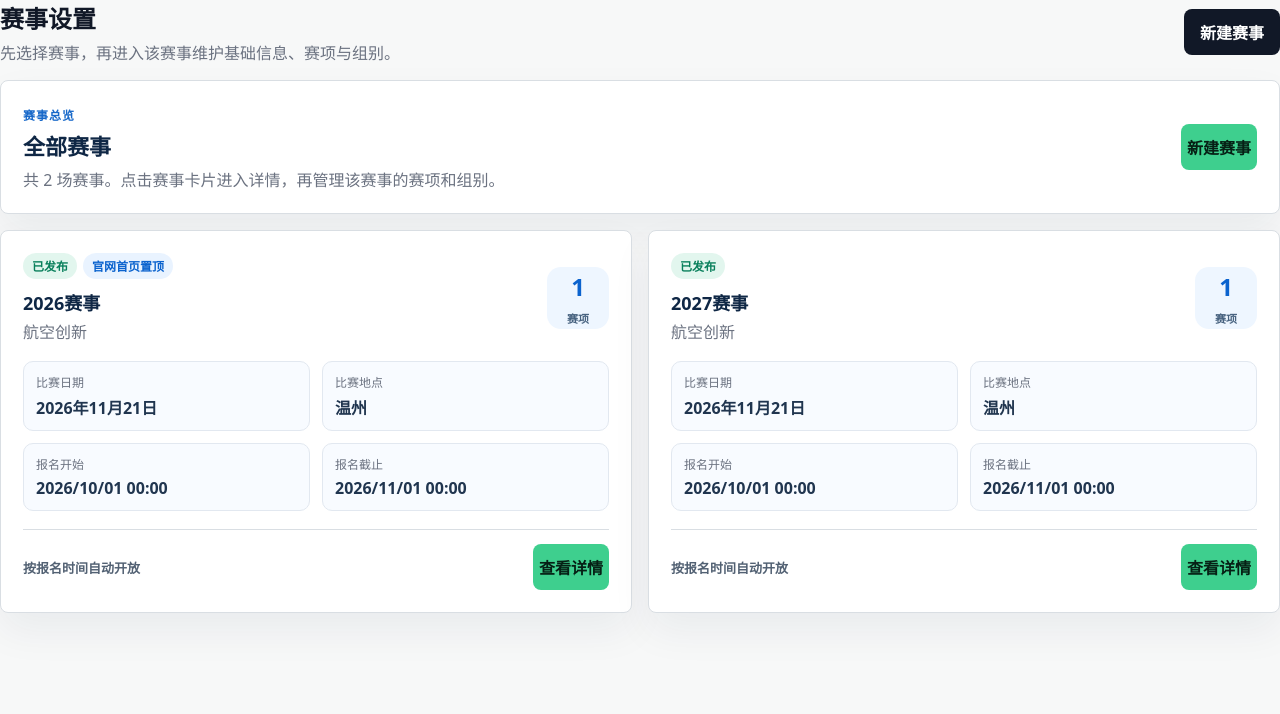
Test: EventManagementPage › opens a selected event before managing its projects
Click the 2nd button "查看详情" at (1219, 567), box top-left (1181, 544), bottom-right (1257, 590)
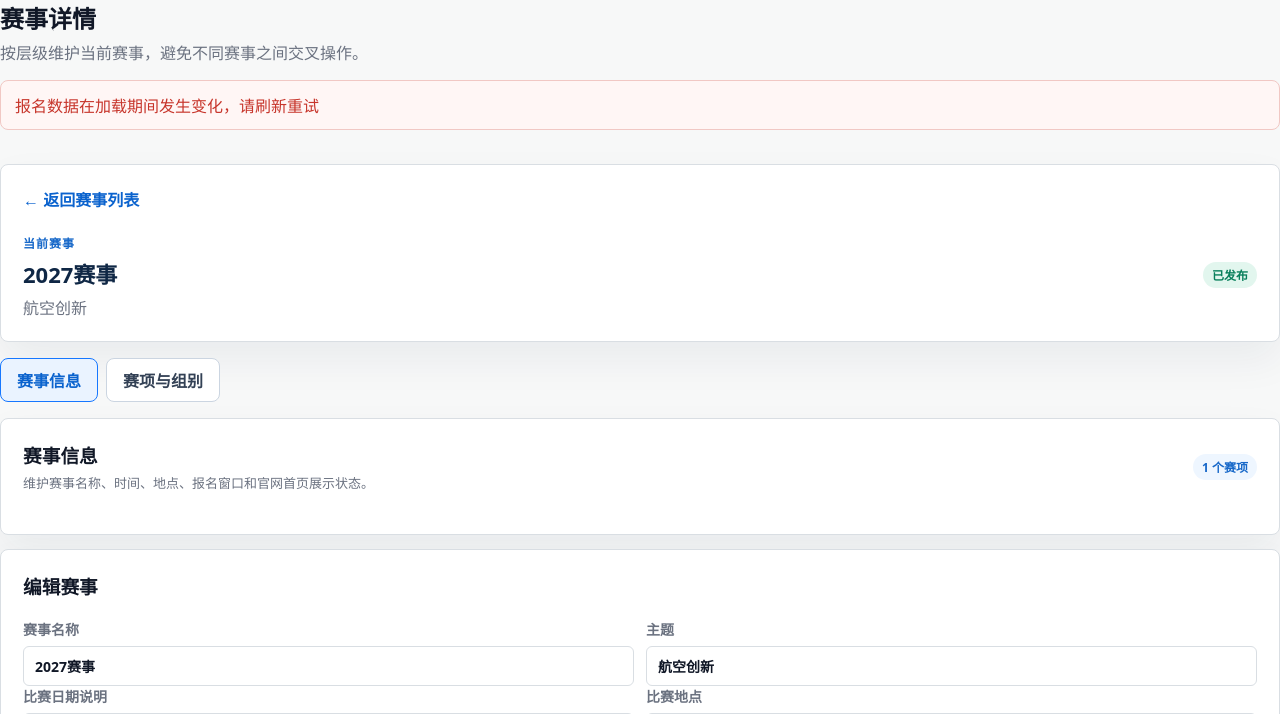
Expected: the element with class "event-detail-heading" shows "2027赛事", top-left (23, 259), bottom-right (117, 289)
Click the tab "赛项与组别" at (163, 380), box top-left (106, 358), bottom-right (220, 402)
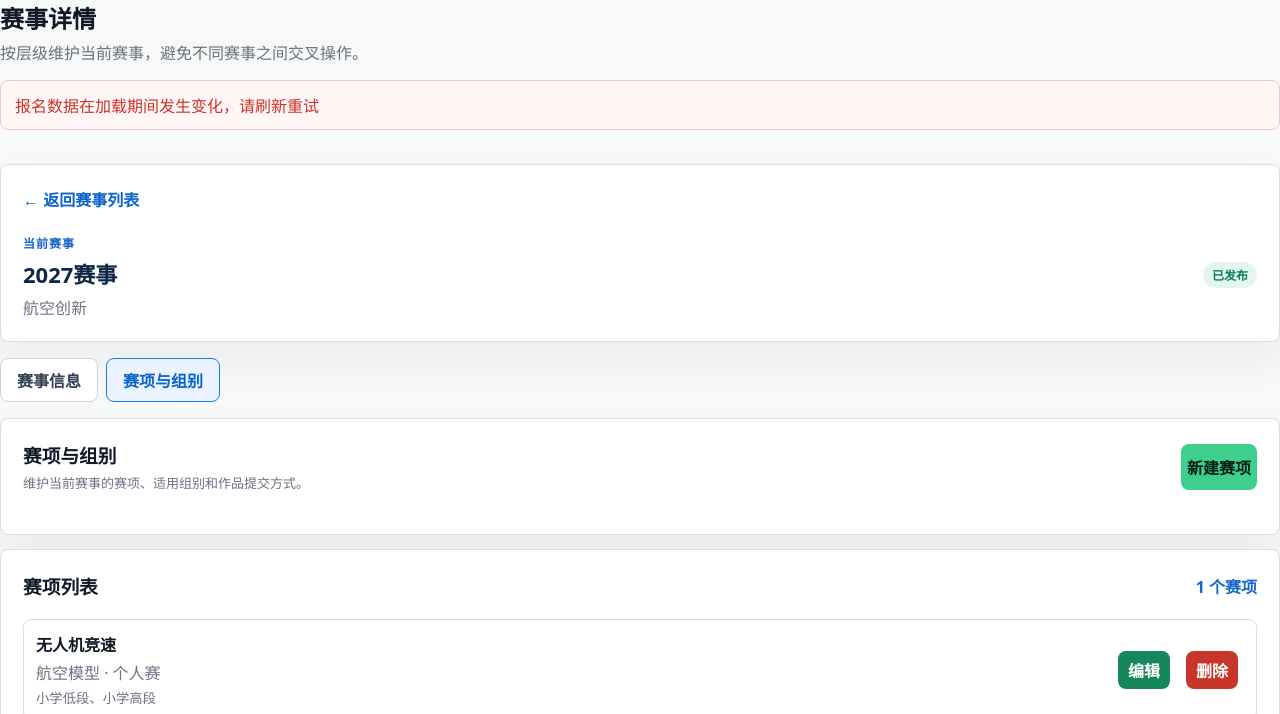
Expected: the element that starts with "赛项与组别" shows "无人机竞速", top-left (36, 634), bottom-right (116, 656)
Click the tab "赛事信息" at (49, 380), box top-left (0, 358), bottom-right (98, 402)
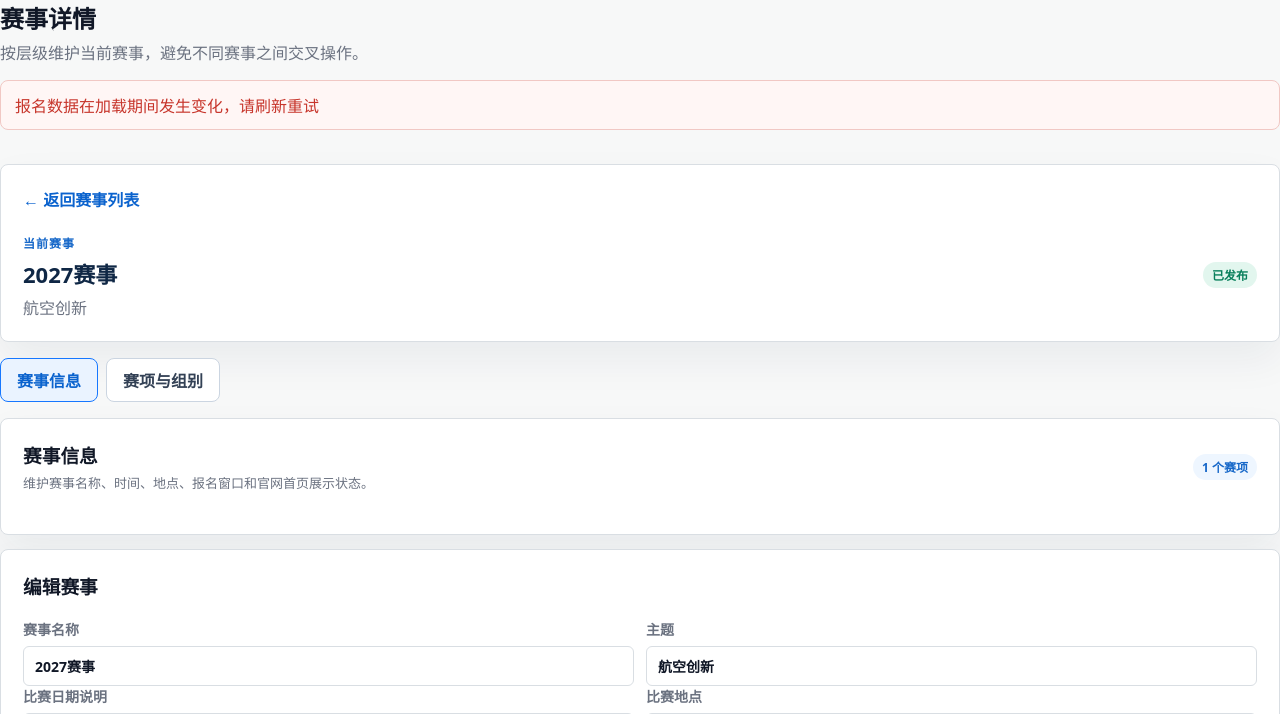
Expected: the field labelled "赛事名称" holds "2027赛事", top-left (23, 646), bottom-right (634, 686)
